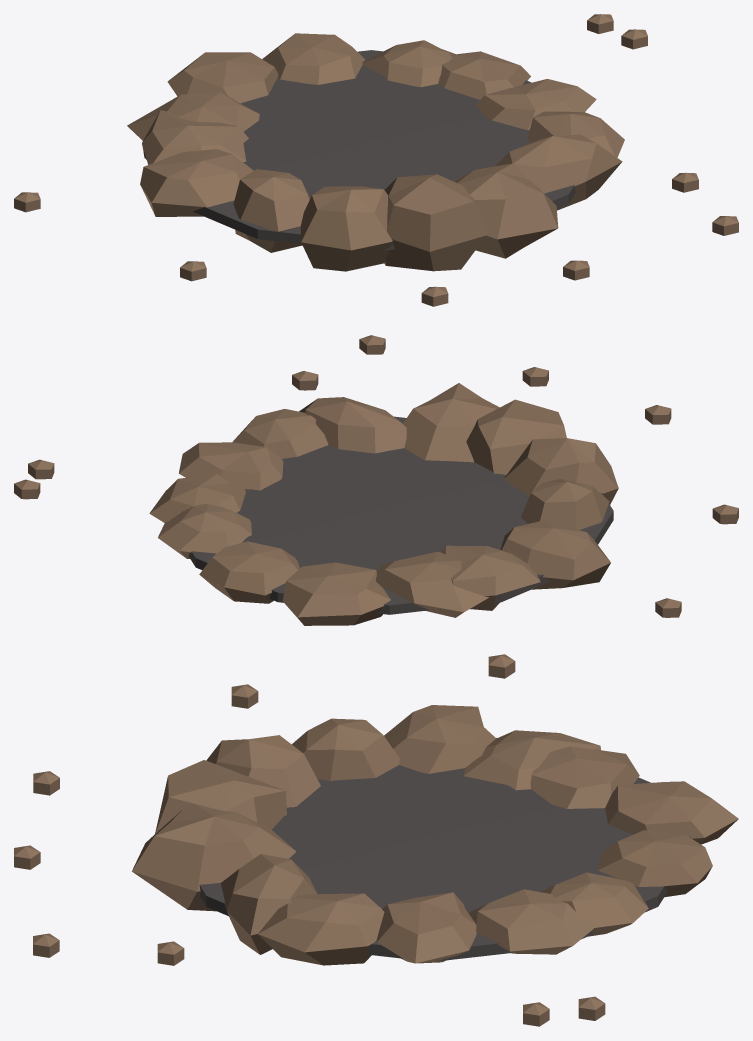
Rendered from crash_dirt.glb.
3 renders of one model, top to bottom at view 1: azimuth 30°, elevation 25°; view 2: azimuth 150°, elevation 25°; view 3: azimuth 270°, elevation 25°, orthographic. The views are drawn at different scales.
Visible parts, largest first — view 1: crash_dirt; view 2: crash_dirt; view 3: crash_dirt.
Part boxes in pixels (x1,y1,x2,y2): crash_dirt: [14, 14, 738, 306]; crash_dirt: [14, 335, 738, 625]; crash_dirt: [14, 654, 738, 1026].
Bounding box in the file's own units: 8.81 × 1.08 × 7.46.
